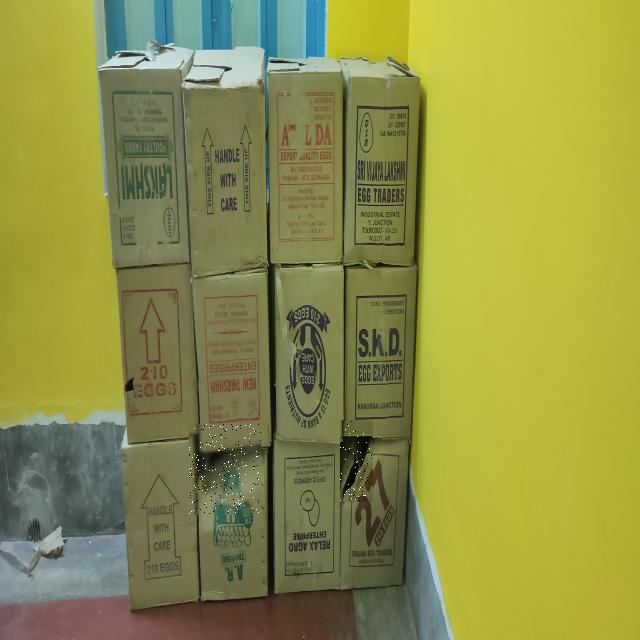squeeze: (190, 425, 261, 514), (341, 421, 372, 501)
